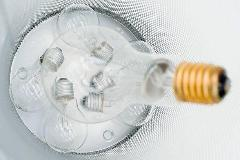lightbulb: (10, 5, 230, 153), (11, 46, 64, 112), (42, 77, 88, 151), (57, 5, 114, 62), (172, 62, 230, 105), (40, 46, 64, 72), (54, 78, 74, 100)
